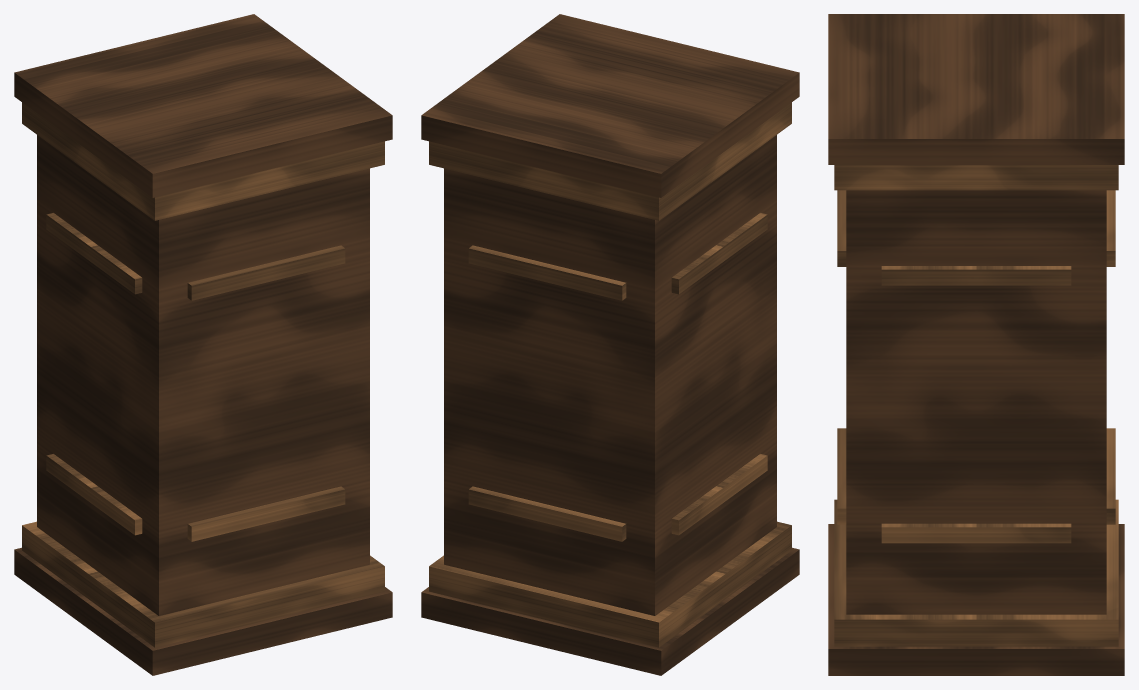
File: vitrine.fbx
The picture shows the model from 3 angles, left to right: view 1: azimuth 30°, elevation 25°; view 2: azimuth 150°, elevation 25°; view 3: azimuth 270°, elevation 25°; orthographic projection. The views are drawn at different scales.
Visible parts, largest first — view 1: vitrine; view 2: vitrine; view 3: vitrine.
Part boxes in pixels (left/top/right/bottom): vitrine: left=14, top=14, right=392, bottom=675; vitrine: left=421, top=14, right=799, bottom=675; vitrine: left=828, top=14, right=1124, bottom=675.
Bounding box in the file's own units: 50 × 100 × 50.
